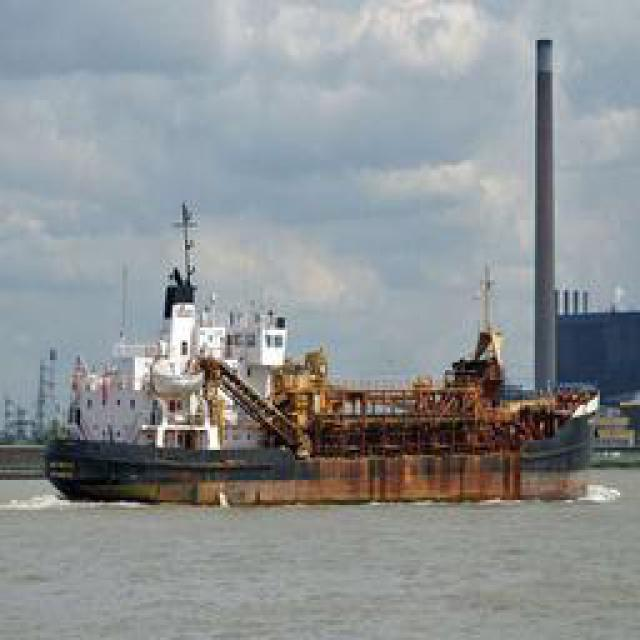Ship: (50, 282, 608, 508)
